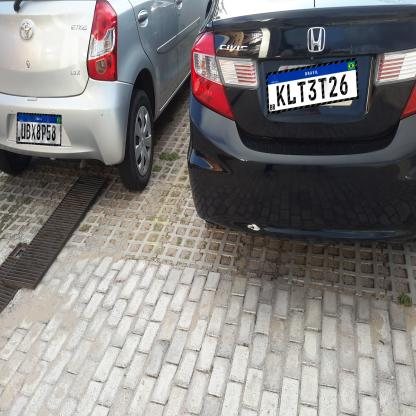PlacaM: (266, 58, 359, 114), (16, 112, 62, 146)
